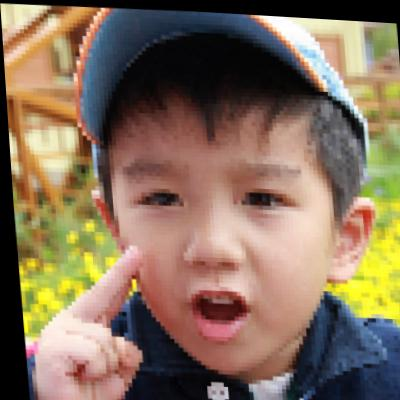surprise: (94, 69, 336, 364)
